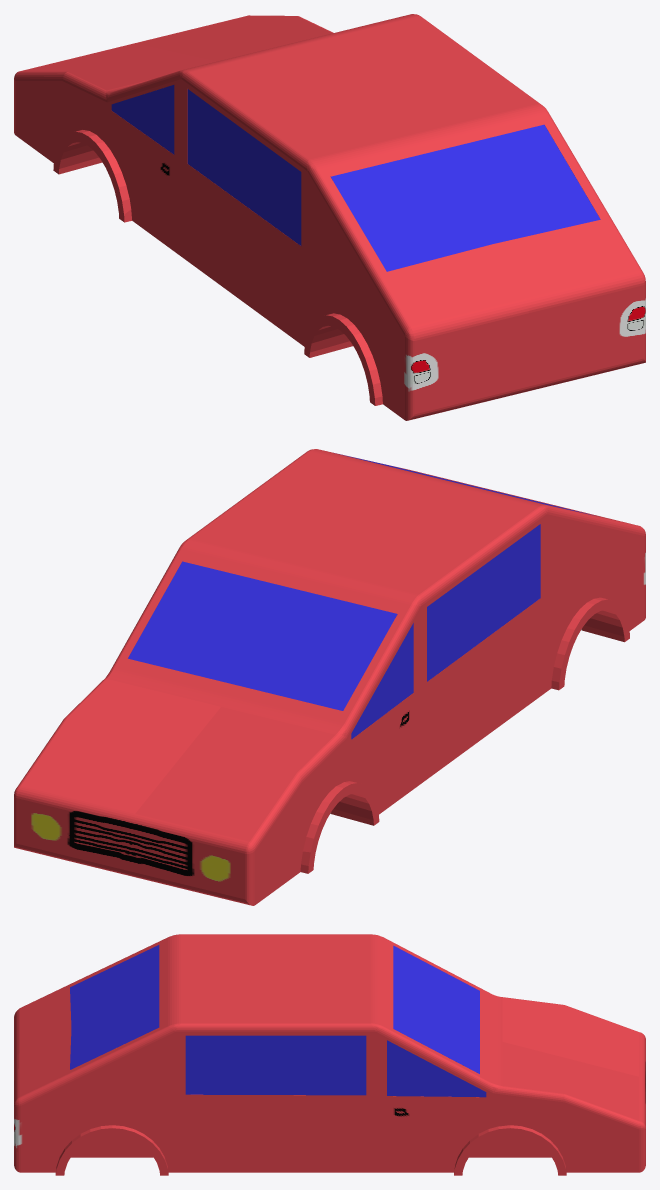
File: car.glb
3 renders of one model, top to bottom at view 1: azimuth 30°, elevation 25°; view 2: azimuth 150°, elevation 25°; view 3: azimuth 270°, elevation 25°, orthographic. The views are drawn at different scales.
Visible parts, largest first — view 1: car body, Cube.003, Cube.004, Cube.002; view 2: car body, Cube.001, Cube.004, Cube.002; view 3: car body, Cube.004, Cube.003, Cube.001, Cube.002.
Part boxes in pixels (x1,y1,x2,y2): car body: [14, 14, 645, 420]; Cube.003: [331, 124, 600, 271]; Cube.004: [187, 89, 301, 245]; Cube.002: [111, 85, 174, 154]; car body: [14, 449, 645, 905]; Cube.001: [128, 561, 397, 710]; Cube.004: [427, 524, 540, 681]; Cube.002: [351, 623, 413, 739]; car body: [14, 934, 645, 1175]; Cube.004: [185, 1035, 366, 1095]; Cube.003: [70, 945, 159, 1069]; Cube.001: [393, 945, 479, 1073]; Cube.002: [387, 1040, 486, 1097].
Size of the model in its own units: 1.11 by 0.7718 by 3.
Materials: 2 (1 with a texture image).
